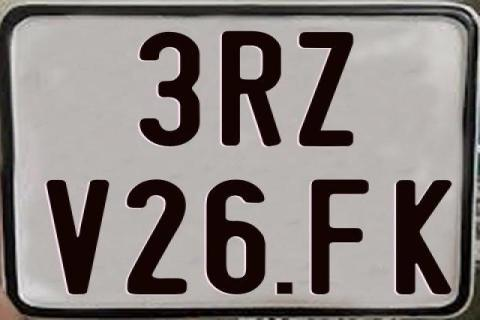0: (203, 177, 267, 295), (126, 178, 187, 298), (137, 30, 199, 144)
F: (309, 177, 368, 295)
K: (393, 179, 455, 297)
R: (219, 31, 278, 147)
V: (43, 180, 111, 294)
Z: (296, 30, 354, 144)
